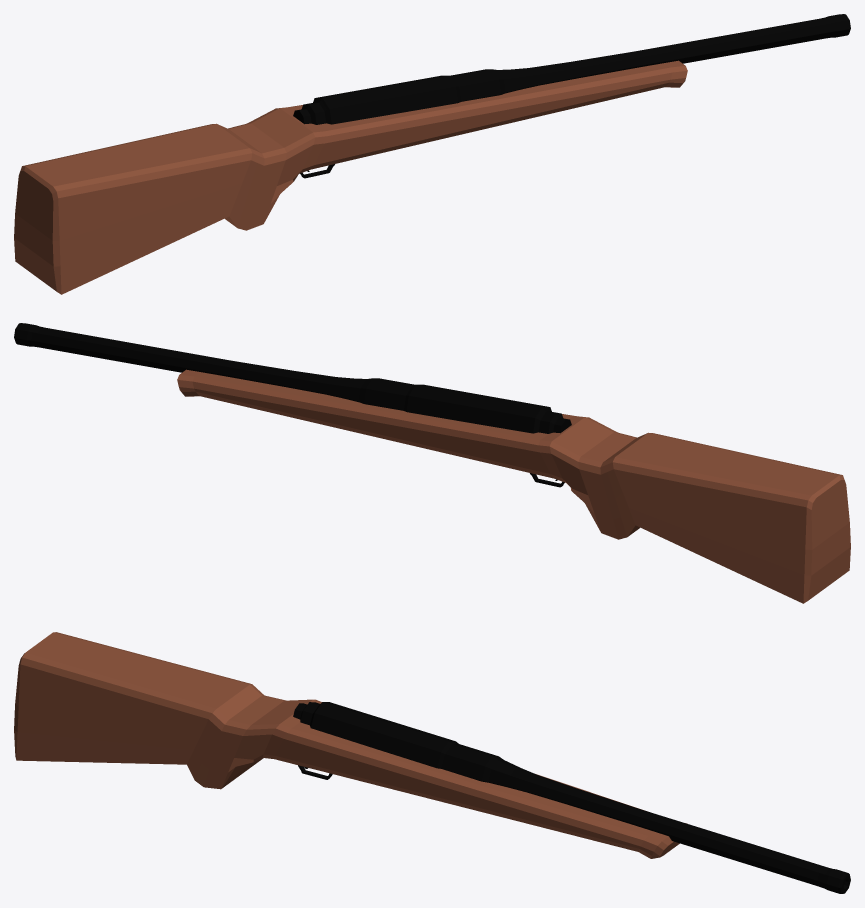
The model's file is Gun.fbx.
The picture shows the model from 3 angles, top to bottom: view 1: azimuth 30°, elevation 25°; view 2: azimuth 150°, elevation 25°; view 3: azimuth 330°, elevation 25°; orthographic projection.
Visible parts, largest first — view 1: Cube; view 2: Cube; view 3: Cube.
Part boxes in pixels (x1,y1,x2,y2): Cube: (14,14,850,294); Cube: (14,323,850,603); Cube: (14,632,850,893).
Bounding box in the file's own units: 630 × 82.39 × 60.52.
